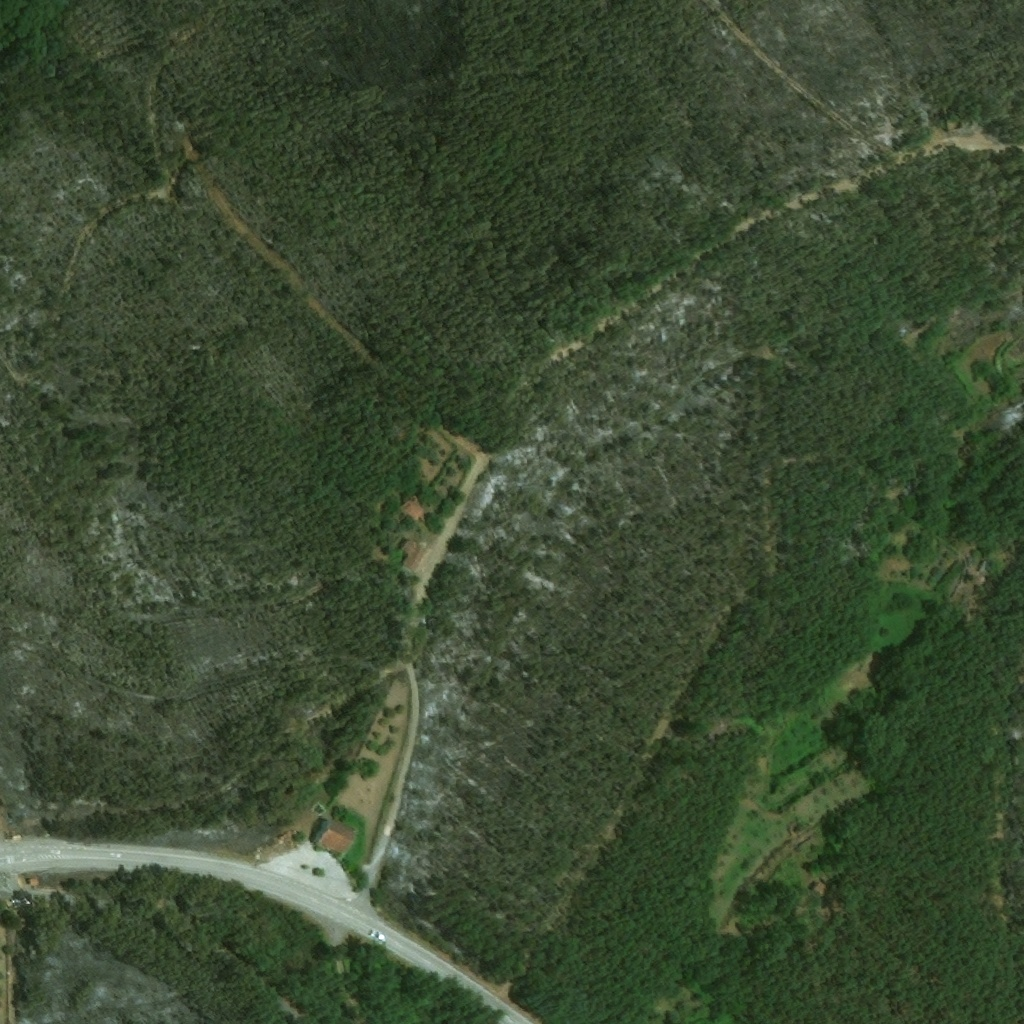0 no-damage: (312, 818, 355, 855), (395, 537, 426, 574), (397, 494, 428, 523), (807, 881, 827, 898), (24, 875, 44, 885)
4 un-classified: (816, 889, 847, 922), (748, 881, 778, 913)
